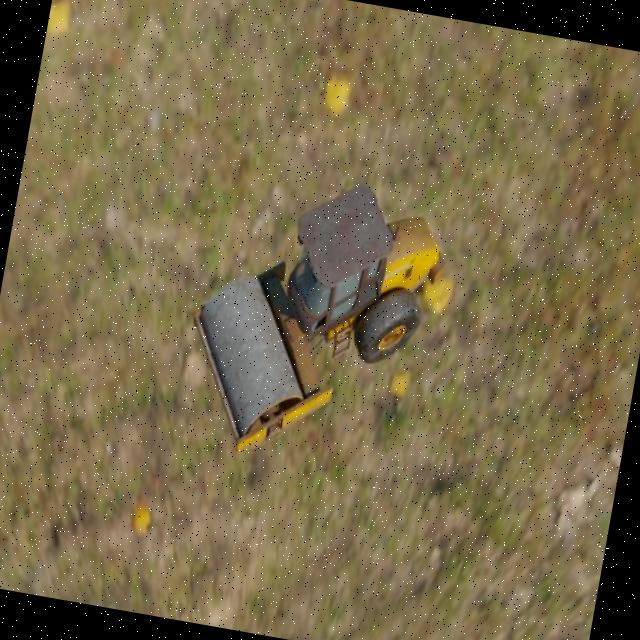Roller: (168, 157, 456, 483)
